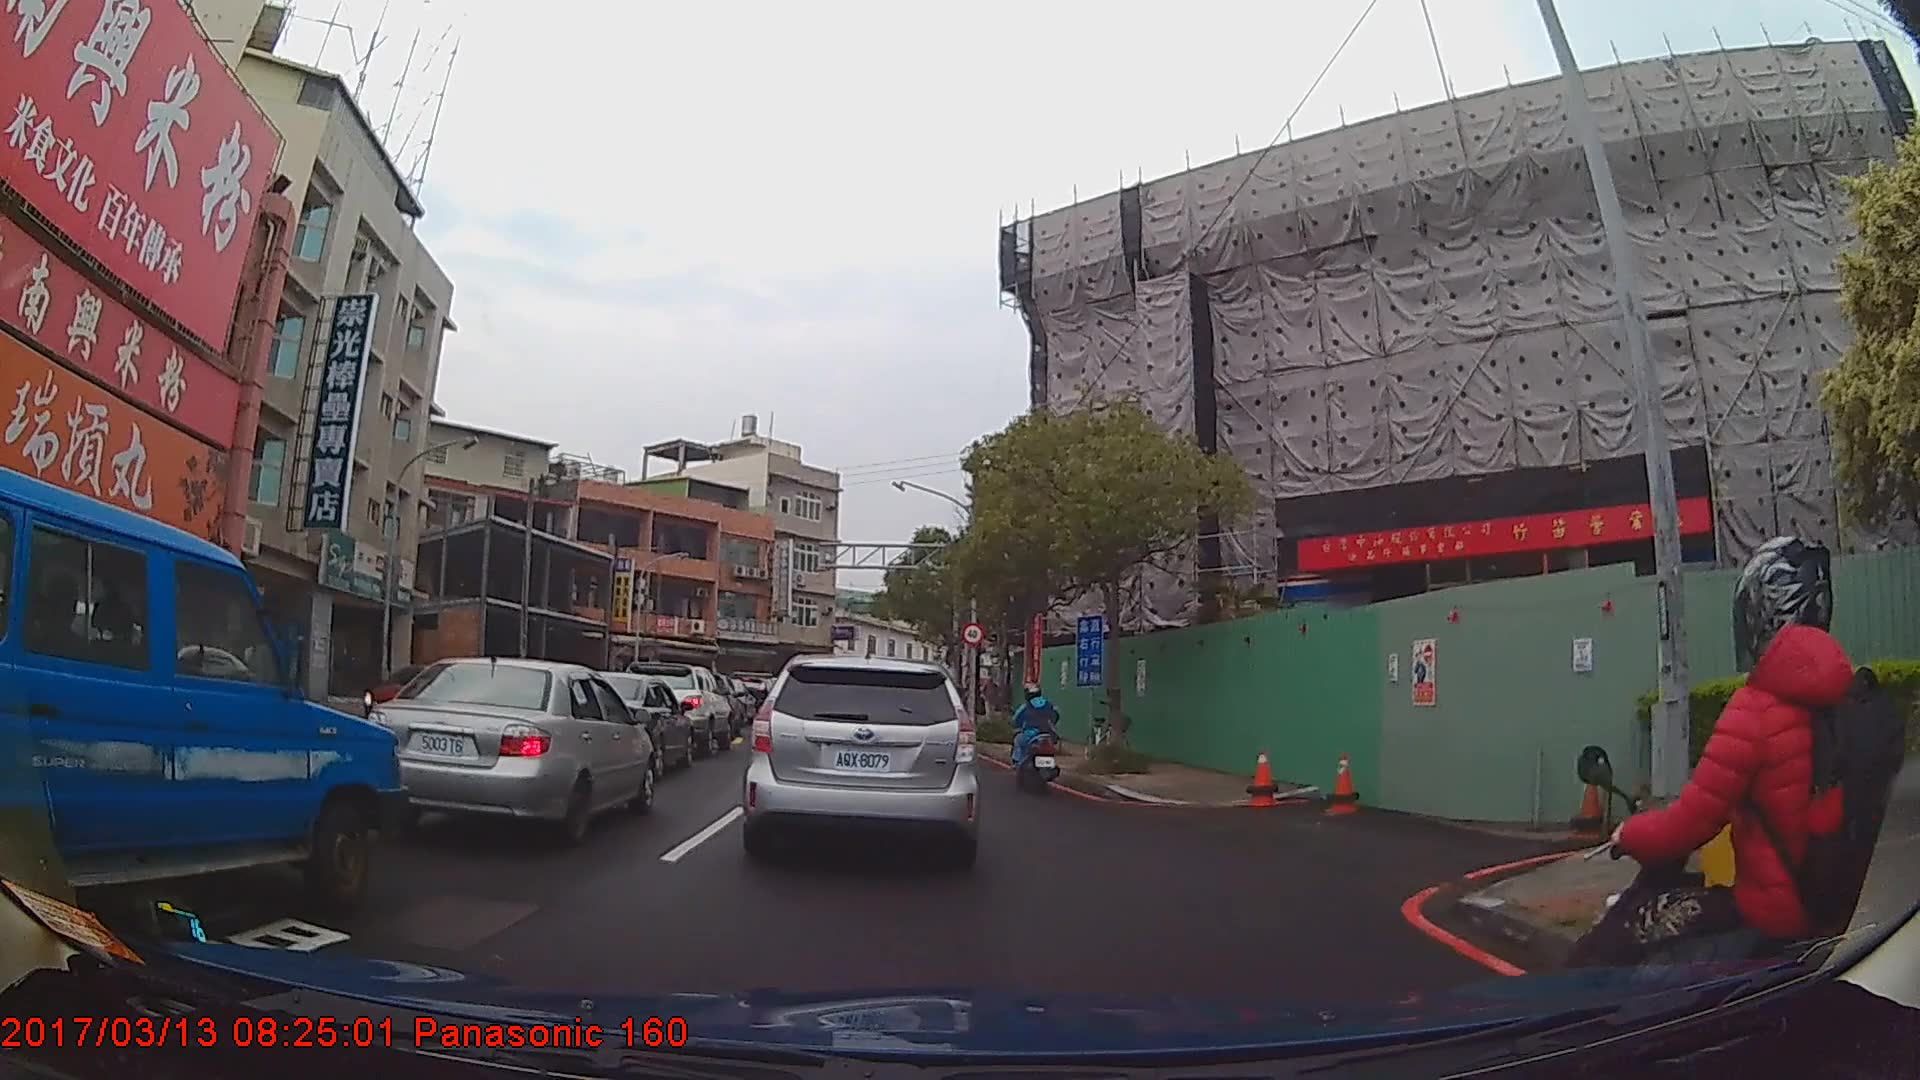rider: (1561, 520, 1920, 1080), (1011, 686, 1064, 795)
vehicle: (0, 464, 399, 949), (358, 655, 659, 849), (742, 652, 981, 860), (547, 668, 694, 774), (619, 658, 731, 757)
